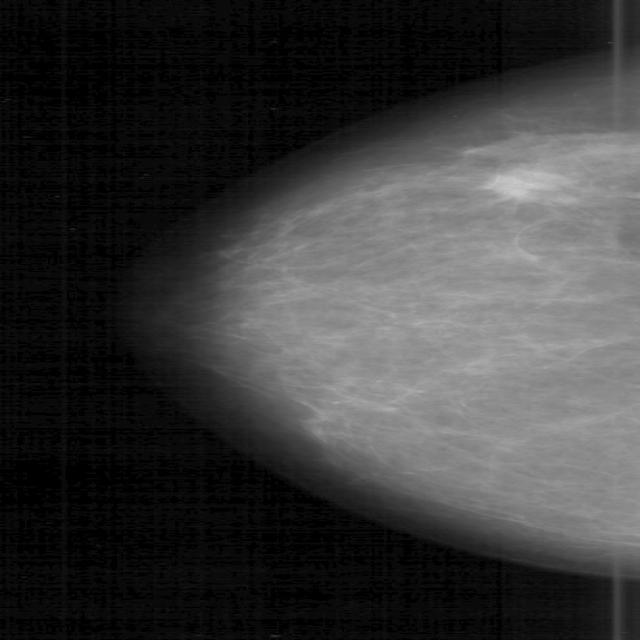tumour: (482, 167, 575, 201)
